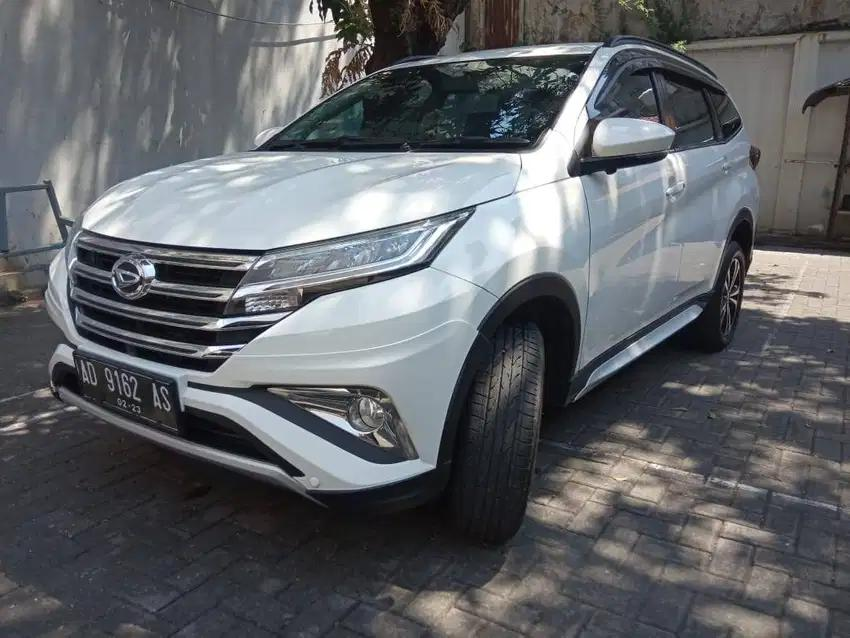plate: (75, 349, 179, 433)
